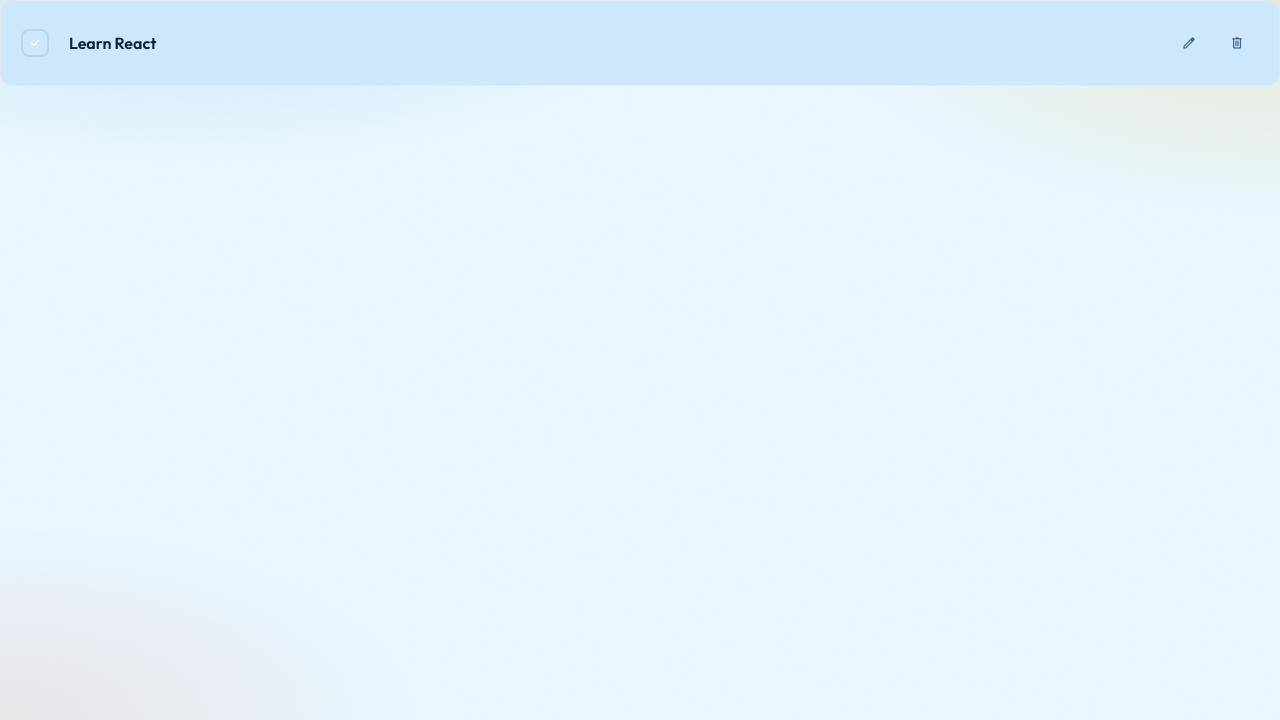
delete flow › shows confirm dialog when delete button is clicked
Click the button named "Delete task". click: (1237, 43)
box: [1215, 21, 1259, 65]
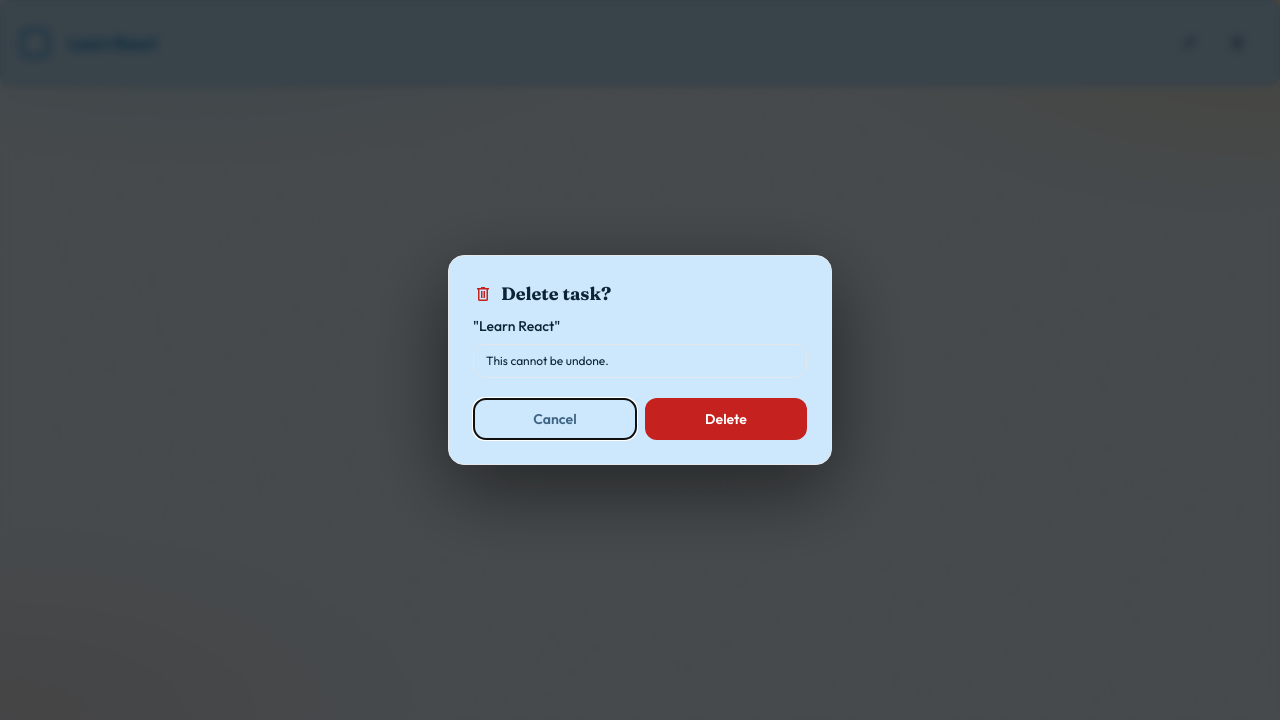
Check: the heading "Delete task?" is shown, box [473, 282, 611, 306]
